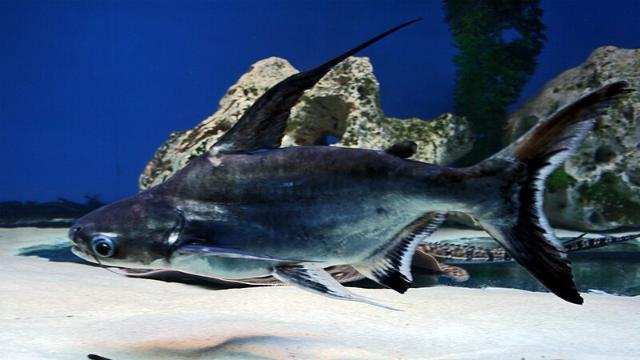Mulut: (62, 217, 105, 279)
Sirip Anal: (357, 211, 451, 297)
Sirip Dada: (173, 236, 293, 276)
Sirip Ekor: (498, 80, 634, 308)
Sirip Perut: (274, 260, 404, 316)
Sirip Punggung: (224, 17, 423, 145)
